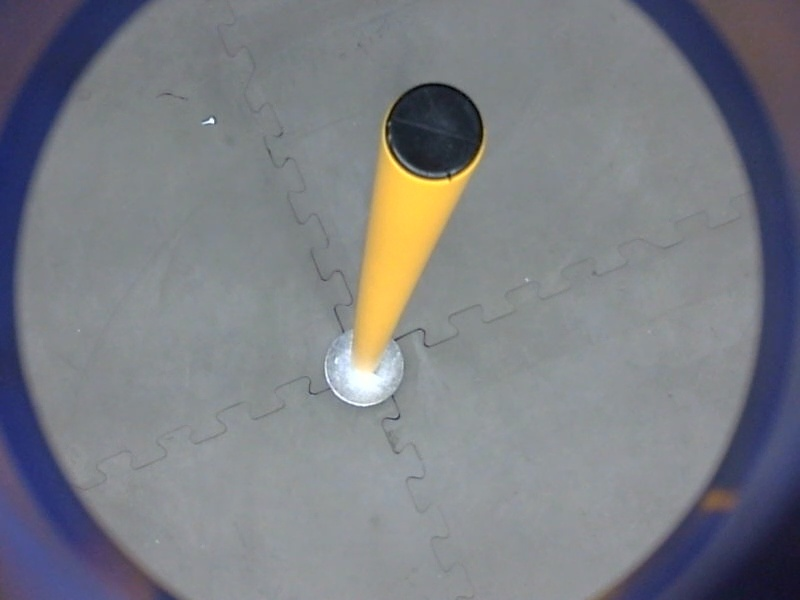tip: (376, 77, 491, 187)
